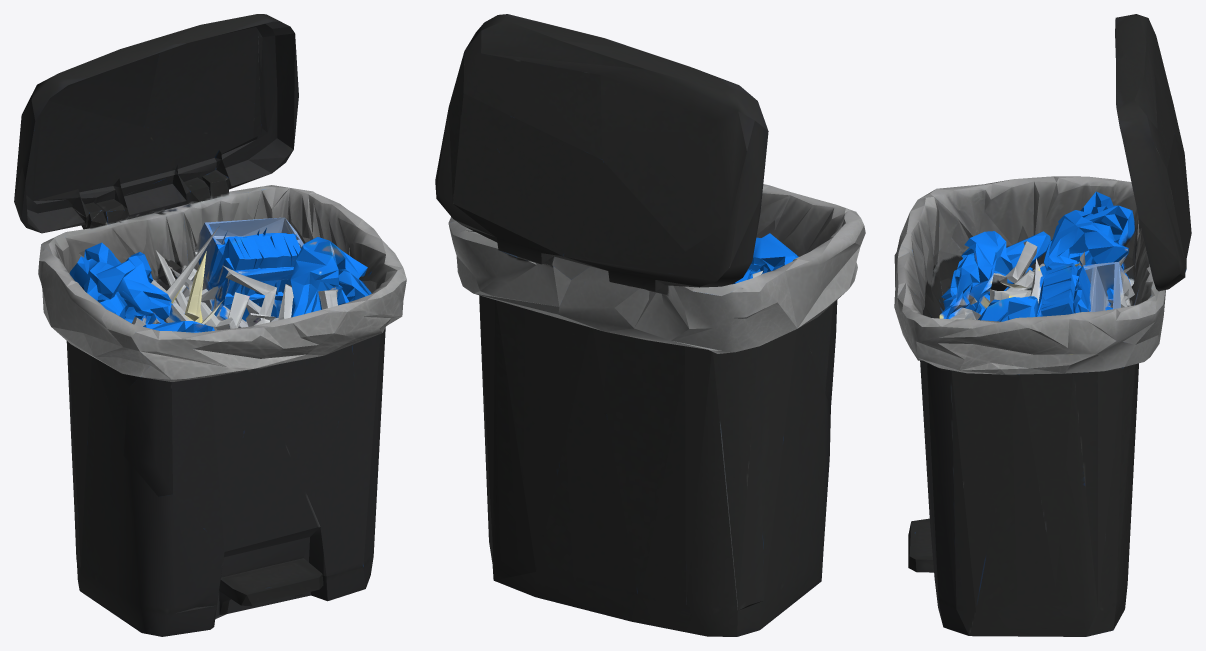
The model's file is TrashBin_low.fbx.
3 views of the same model, side by side, from view 1: azimuth 30°, elevation 25°; view 2: azimuth 150°, elevation 25°; view 3: azimuth 270°, elevation 25° (orthographic). The views are drawn at different scales.
Parts seen in each view (by area): view 1: TrashBin_low; view 2: TrashBin_low; view 3: TrashBin_low.
Boxes of the visible parts, bbox=[...] form: TrashBin_low: bbox=[14, 14, 406, 636]; TrashBin_low: bbox=[435, 14, 865, 636]; TrashBin_low: bbox=[894, 14, 1191, 636].
Size of the model in its own units: 117 by 190 by 98.36.
